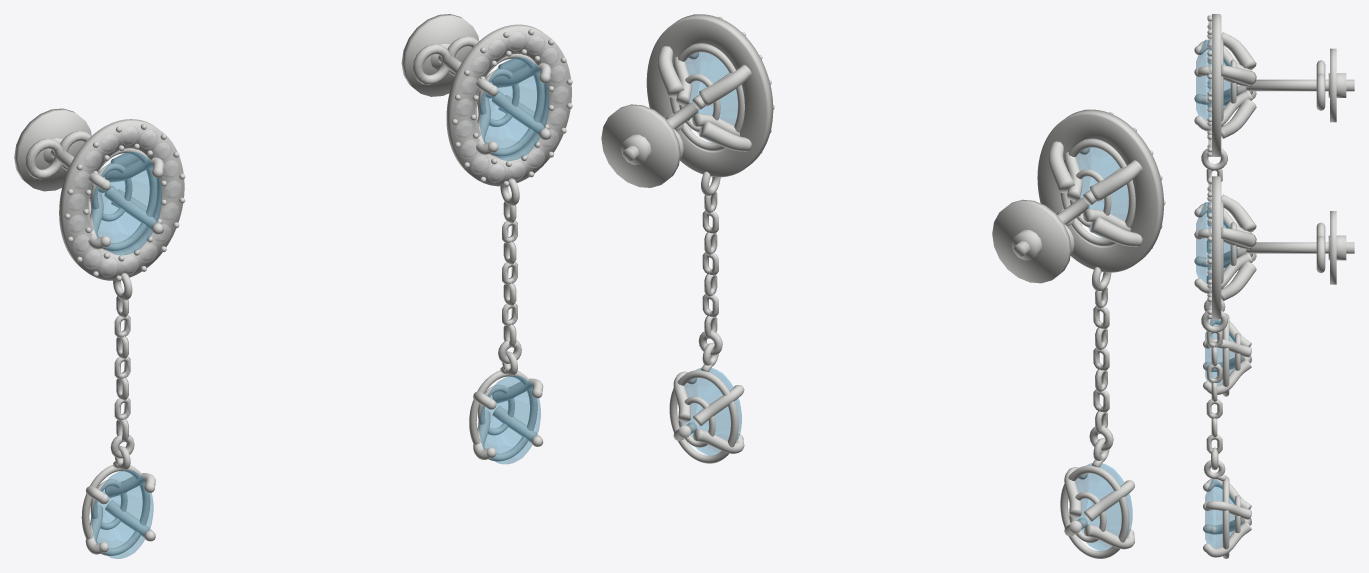
Rendered from Earring_OvalHaloDrop_Preview.glb.
3 renders of one model, left to right at view 1: azimuth 30°, elevation 25°; view 2: azimuth 150°, elevation 25°; view 3: azimuth 270°, elevation 25°, orthographic. The views are drawn at different scales.
Parts seen in each view (by area): view 1: Halo_Frame, Halo_Frame.001, Drop_Chain_Center, Drop_Chain_Pair, PreviewGem_Center, PreviewGem_Pair, Accent_Halo.001, Accent_Halo, Head_Center.001, Head_Center, Attach_Back, Attach_Back.001 (+2 smaller); view 2: Halo_Frame.001, Halo_Frame, Drop_Chain_Center, Drop_Chain_Pair, Attach_Back.001, Attach_Back, Head_Center.001, Head_Center, AccentMatch_Drop_Pair, AccentMatch_Drop_Center, PreviewGem_Center, PreviewGem_Pair; view 3: Drop_Chain_Center, Halo_Frame, Halo_Frame.001, Drop_Chain_Pair, Head_Center, Head_Center.001, Attach_Back, Attach_Back.001, AccentMatch_Drop_Center, PreviewGem_Center, PreviewGem_Pair, Attach_Post.001 (+4 smaller).
Part boxes in pixels (x1=…): Halo_Frame: x1=446, y1=24, x2=572, y2=186; Halo_Frame.001: x1=59, y1=119, x2=185, y2=281; Drop_Chain_Center: x1=469, y1=178, x2=543, y2=461; Drop_Chain_Pair: x1=81, y1=273, x2=155, y2=555; PreviewGem_Center: x1=479, y1=57, x2=549, y2=160; PreviewGem_Pair: x1=92, y1=152, x2=161, y2=255; Accent_Halo.001: x1=68, y1=126, x2=181, y2=276; Accent_Halo: x1=455, y1=32, x2=569, y2=182; Head_Center.001: x1=87, y1=148, x2=163, y2=251; Head_Center: x1=475, y1=53, x2=551, y2=156; Attach_Back: x1=401, y1=14, x2=478, y2=96; Attach_Back.001: x1=14, y1=108, x2=91, y2=191; Halo_Frame.001: x1=1037, y1=109, x2=1165, y2=272; Halo_Frame: x1=646, y1=14, x2=774, y2=177; Drop_Chain_Center: x1=669, y1=171, x2=744, y2=463; Drop_Chain_Pair: x1=1060, y1=267, x2=1134, y2=558; Attach_Back.001: x1=992, y1=199, x2=1074, y2=283; Attach_Back: x1=601, y1=104, x2=683, y2=187; Head_Center.001: x1=1060, y1=139, x2=1135, y2=246; Head_Center: x1=669, y1=44, x2=744, y2=150; AccentMatch_Drop_Pair: x1=1076, y1=463, x2=1132, y2=550; AccentMatch_Drop_Center: x1=685, y1=368, x2=741, y2=455; PreviewGem_Center: x1=685, y1=52, x2=737, y2=142; PreviewGem_Pair: x1=1076, y1=148, x2=1128, y2=237; Drop_Chain_Center: x1=1201, y1=309, x2=1251, y2=558; Halo_Frame: x1=1207, y1=176, x2=1256, y2=319; Halo_Frame.001: x1=1207, y1=14, x2=1256, y2=156; Drop_Chain_Pair: x1=1201, y1=147, x2=1251, y2=396; Head_Center: x1=1194, y1=201, x2=1252, y2=293; Head_Center.001: x1=1194, y1=38, x2=1252, y2=130; Attach_Back: x1=1316, y1=211, x2=1346, y2=284; Attach_Back.001: x1=1316, y1=48, x2=1346, y2=122; AccentMatch_Drop_Center: x1=1205, y1=479, x2=1241, y2=548; PreviewGem_Center: x1=1196, y1=202, x2=1237, y2=293; PreviewGem_Pair: x1=1196, y1=40, x2=1237, y2=120; Attach_Post.001: x1=1246, y1=79, x2=1354, y2=91.
Bounding box in the file's own units: 0.0367 × 0.0302 × 0.0117.
